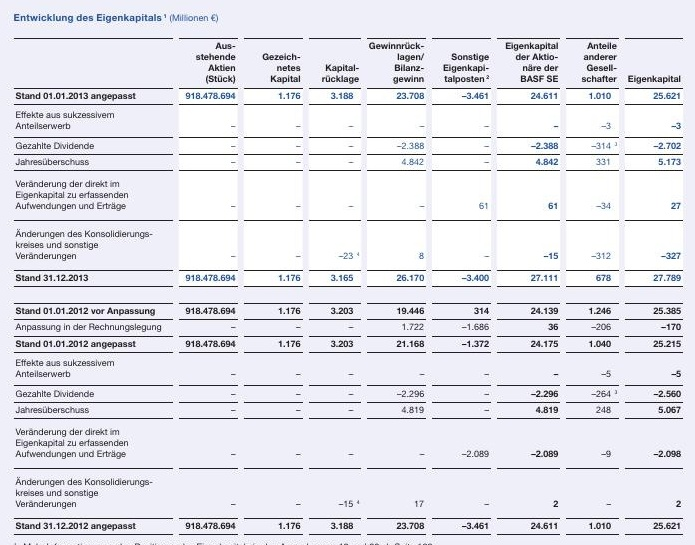table: (0, 0, 695, 545)
